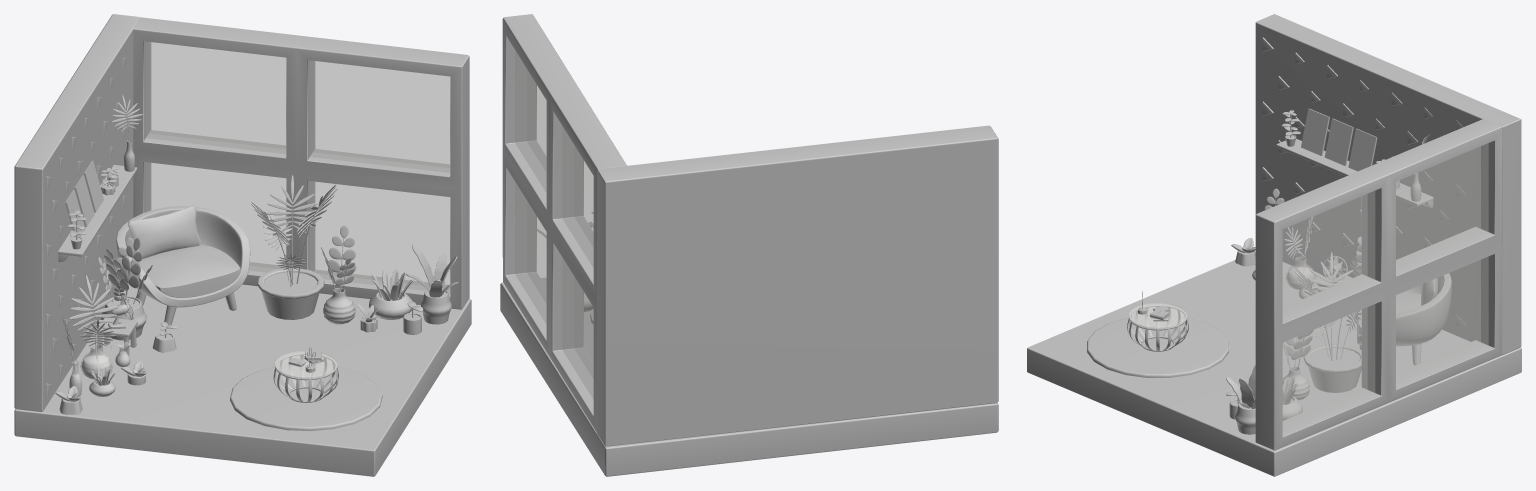
Rendered from Greenhouse_7.fbx.
3 views of the same model, side by side, from view 1: azimuth 30°, elevation 25°; view 2: azimuth 150°, elevation 25°; view 3: azimuth 270°, elevation 25° (orthographic). The views are drawn at different scales.
Visible parts, largest first — view 1: Room_7_Window_1, Room_7_Floor_1, Room_7_Wall_1, Room_7_Armchair_1, Room_7_Carpet_1, Room_7_Plant_9, Room_7_Plant_5, Room_7_Pillow_1, Room_7_Vase_with_plant_2, Room_7_Table_1, Room_7_Plant_8, Room_7_Plant_12 (+10 smaller); view 2: Room_7_Wall_1, Room_7_Window_1, Room_7_Floor_1; view 3: Room_7_Window_1, Room_7_Wall_1, Room_7_Floor_1, Room_7_Carpet_1, Room_7_Plant_9, Room_7_Armchair_1, Room_7_Table_1, Room_7_Shelf_1, Room_7_Plant_12, Room_7_Plant_8, Room_7_Vase_with_plant_2, Room_7_Picture_2 (+3 smaller).
Boxes of the visible parts, x1,y1,x2,y2 form: Room_7_Window_1: [133, 17, 469, 309]; Room_7_Floor_1: [14, 283, 471, 476]; Room_7_Wall_1: [14, 14, 139, 412]; Room_7_Armchair_1: [116, 206, 250, 325]; Room_7_Carpet_1: [230, 364, 382, 431]; Room_7_Plant_9: [251, 175, 337, 319]; Room_7_Plant_5: [98, 237, 152, 340]; Room_7_Pillow_1: [128, 205, 200, 258]; Room_7_Vase_with_plant_2: [69, 275, 118, 380]; Room_7_Table_1: [273, 350, 338, 402]; Room_7_Plant_8: [321, 225, 356, 324]; Room_7_Plant_12: [406, 244, 458, 324]; Room_7_Wall_1: [597, 125, 998, 446]; Room_7_Window_1: [502, 14, 626, 432]; Room_7_Floor_1: [500, 277, 998, 476]; Room_7_Window_1: [1255, 119, 1501, 450]; Room_7_Wall_1: [1255, 14, 1521, 355]; Room_7_Floor_1: [1027, 251, 1521, 476]; Room_7_Carpet_1: [1087, 315, 1228, 377]; Room_7_Plant_9: [1294, 252, 1361, 392]; Room_7_Armchair_1: [1357, 273, 1451, 364]; Room_7_Table_1: [1127, 302, 1188, 351]; Room_7_Shelf_1: [1276, 138, 1433, 207]; Room_7_Plant_12: [1226, 365, 1255, 434]; Room_7_Plant_8: [1282, 330, 1313, 399]; Room_7_Vase_with_plant_2: [1284, 215, 1316, 289]; Room_7_Picture_2: [1324, 118, 1353, 165].
Size of the model in its own units: 704 by 400 by 704.
